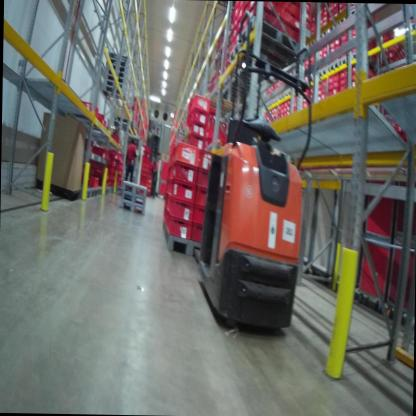pallet: (235, 14, 309, 73), (159, 213, 212, 258), (226, 39, 279, 77), (343, 49, 375, 69), (99, 82, 132, 101), (118, 200, 146, 215), (118, 191, 146, 206), (118, 180, 146, 195), (105, 80, 130, 94), (103, 56, 128, 70), (100, 67, 127, 78), (80, 184, 95, 201), (312, 66, 329, 80), (102, 65, 126, 74), (326, 18, 338, 35), (334, 16, 349, 28), (105, 74, 127, 82), (112, 113, 128, 124), (347, 7, 358, 20), (327, 61, 337, 75), (93, 185, 103, 197), (337, 56, 346, 69), (320, 28, 327, 40)
pallet_truck: (191, 46, 318, 343)
small_load_carrier: (246, 2, 280, 32), (167, 174, 197, 207), (167, 159, 201, 185), (171, 140, 203, 167), (278, 17, 311, 43), (162, 211, 191, 238), (167, 194, 193, 222), (281, 7, 310, 32), (196, 148, 224, 169), (186, 104, 211, 127), (192, 185, 209, 212), (188, 94, 209, 113), (195, 169, 212, 192), (187, 116, 205, 137), (77, 102, 99, 118), (186, 132, 204, 149), (97, 114, 108, 125)
